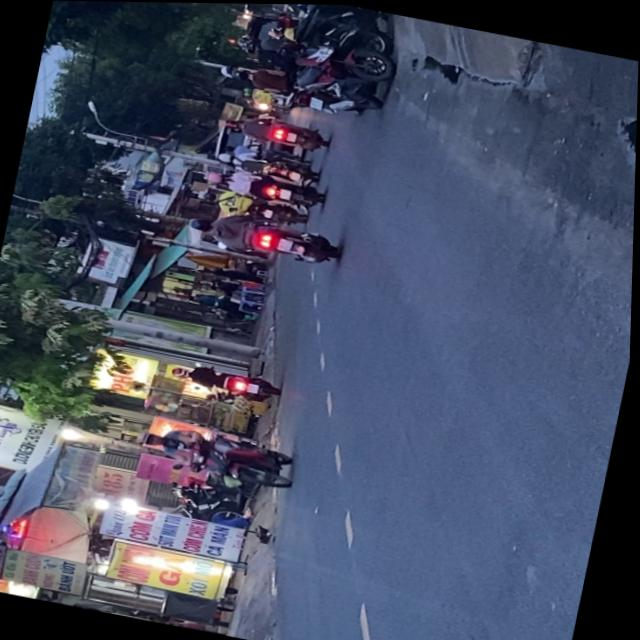helmet: (136, 430, 167, 449)
licenseplate: (130, 416, 302, 496)
